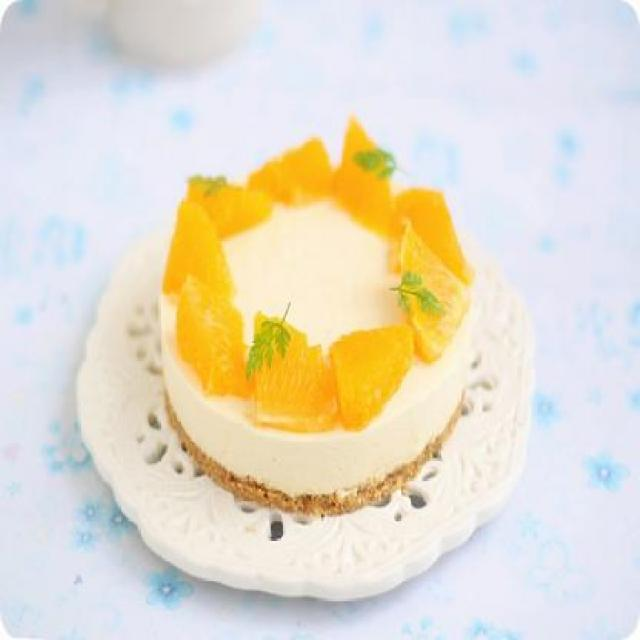Rare cheese cake: (100, 125, 532, 562)
